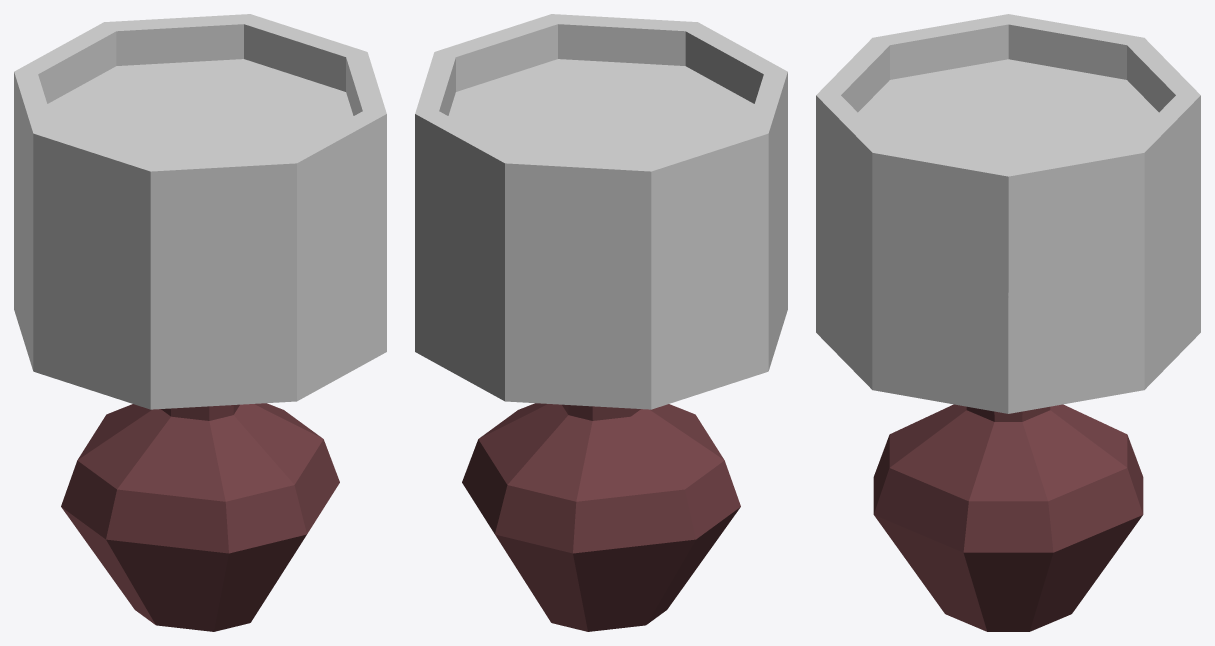
File: lamba2.fbx
The picture shows the model from 3 angles, left to right: view 1: azimuth 30°, elevation 25°; view 2: azimuth 150°, elevation 25°; view 3: azimuth 270°, elevation 25°; orthographic projection.
Parts seen in each view (by area): view 1: lamba; view 2: lamba; view 3: lamba.
Boxes of the visible parts, bbox=[...] form: lamba: bbox=[14, 14, 386, 631]; lamba: bbox=[415, 14, 787, 631]; lamba: bbox=[816, 14, 1200, 631].
Bounding box in the file's own units: 569 × 831 × 569.
